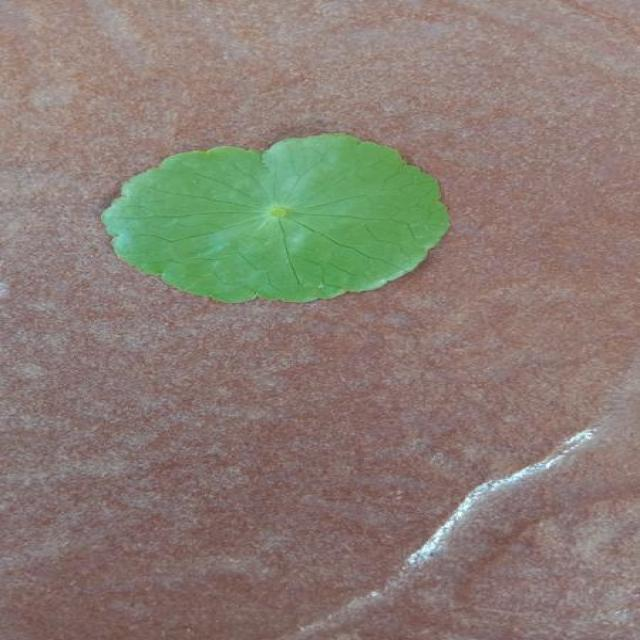bhrami: (102, 134, 448, 302)
